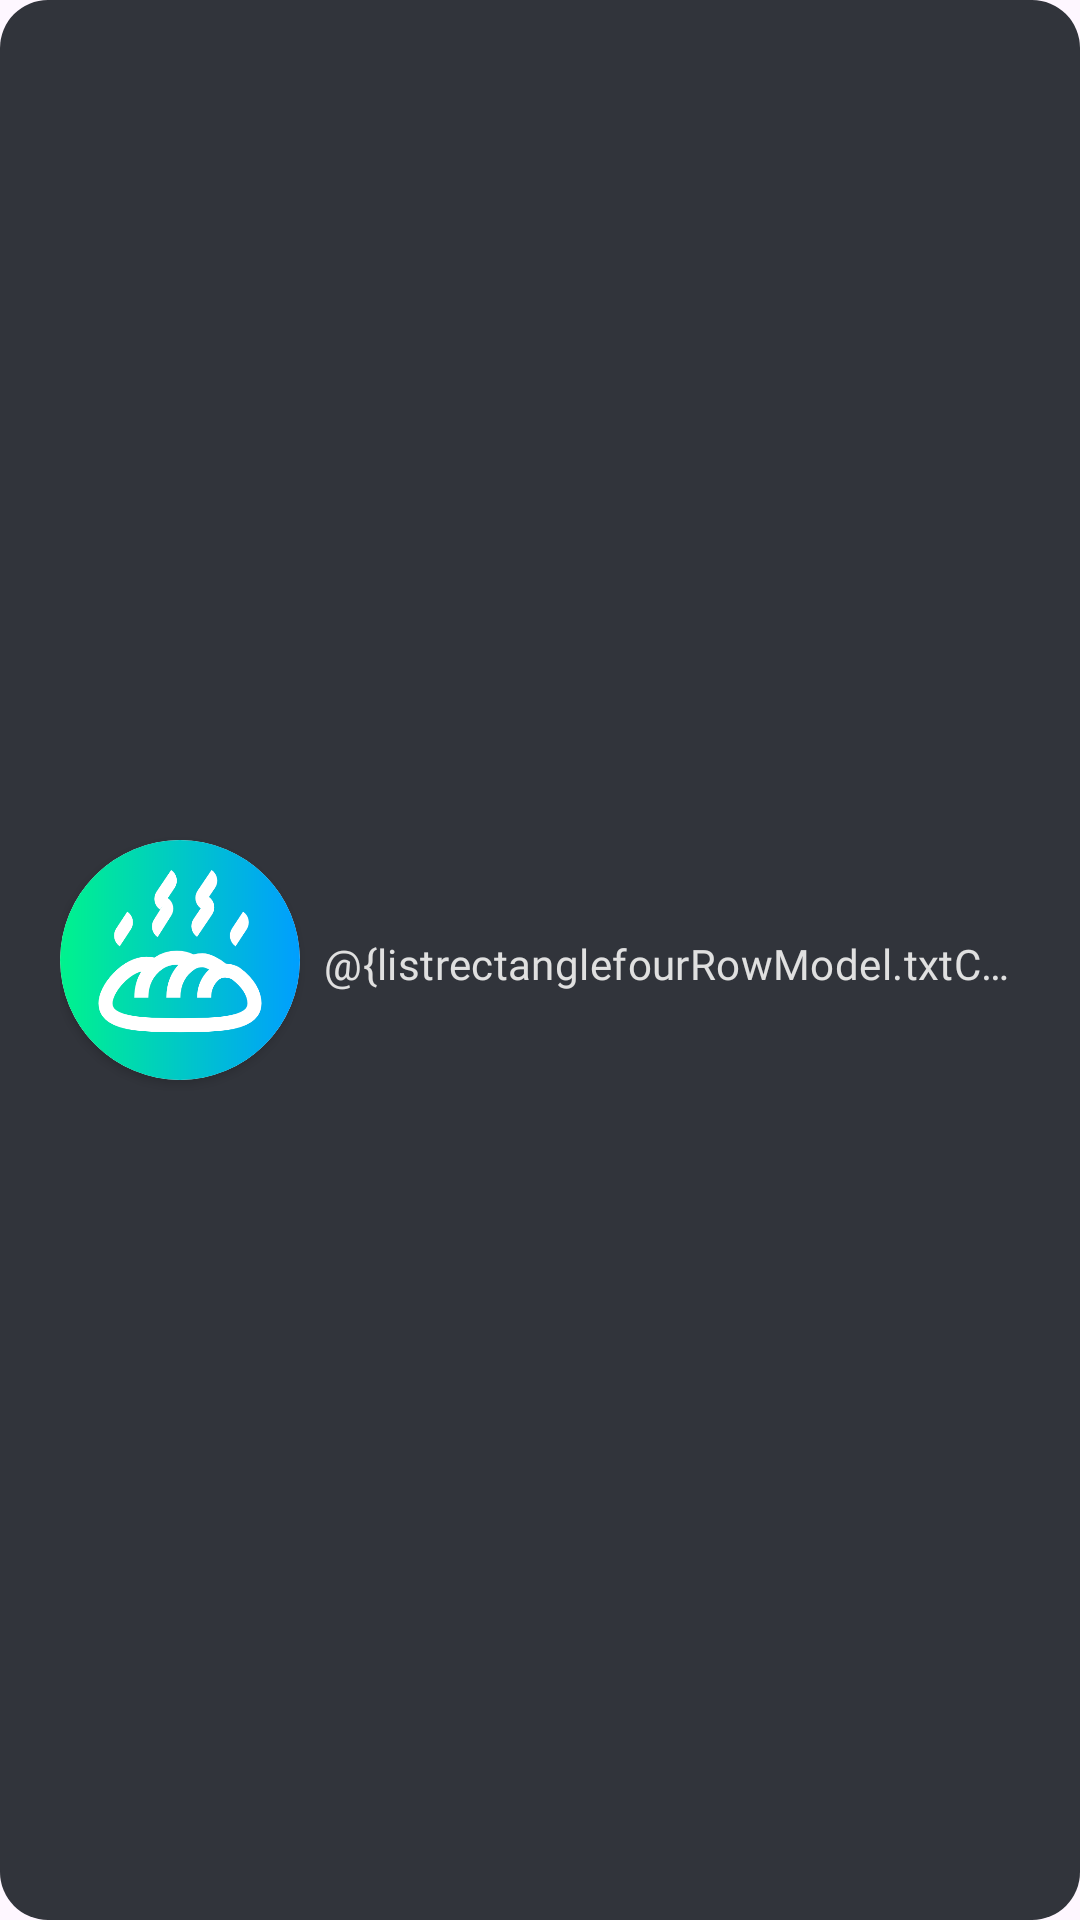

Icons on this 1080w x 1920h Android screen, each with the point to tap as (x=x, y=y):
bread: (x=180, y=960)
